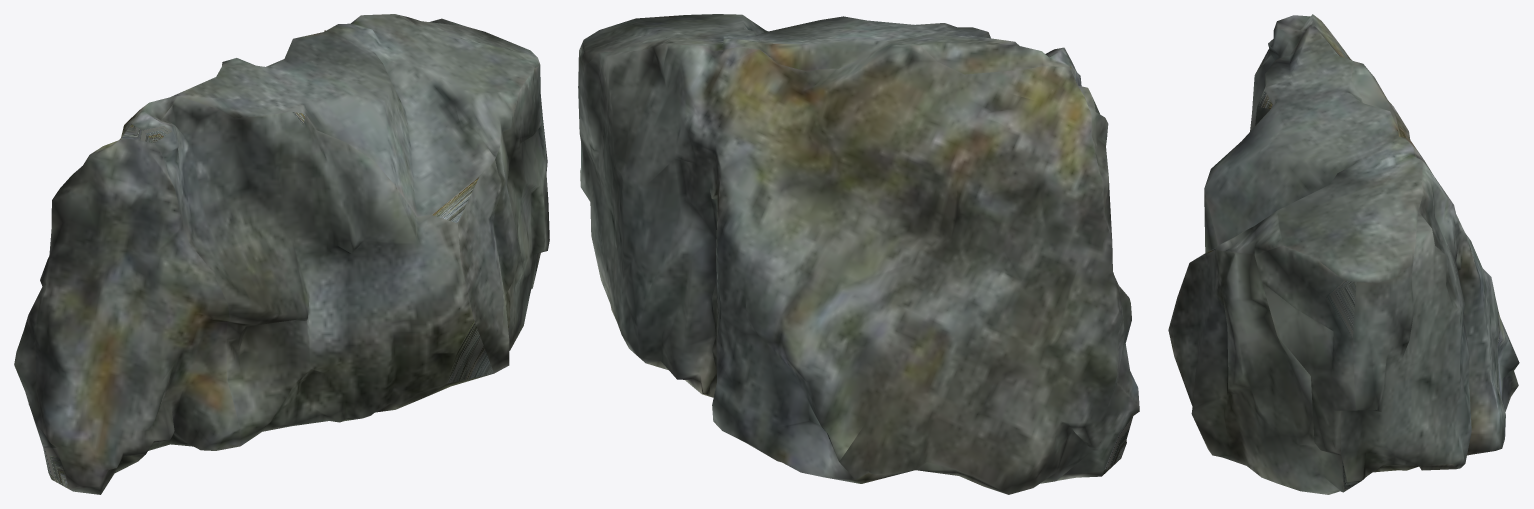
File: bw-cliff-7.lod0.glb
3 renders of one model, left to right at view 1: azimuth 30°, elevation 25°; view 2: azimuth 150°, elevation 25°; view 3: azimuth 270°, elevation 25°, orthographic. The views are drawn at different scales.
Visible parts, largest first — view 1: Object_2; view 2: Object_2; view 3: Object_2.
Part boxes in pixels (x1,y1,x2,y2): Object_2: (14, 14, 549, 494); Object_2: (578, 14, 1139, 494); Object_2: (1168, 14, 1519, 494).
Bounding box in the file's own units: 15.97 × 11.01 × 9.51.
1 material, 1 textured.
